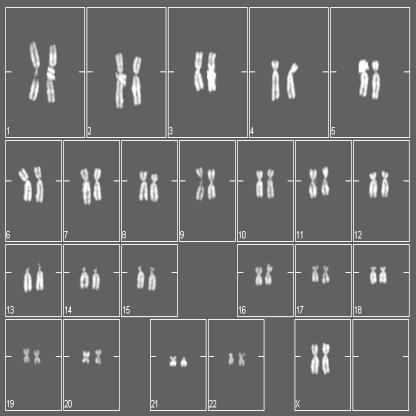1: (28, 40, 40, 104), (45, 40, 57, 104)
10: (255, 166, 264, 202), (266, 164, 274, 200)
11: (309, 163, 318, 201), (321, 164, 330, 202)
12: (368, 166, 380, 202), (380, 166, 390, 201)
13: (22, 264, 34, 297), (34, 264, 46, 297)
14: (90, 264, 102, 294), (78, 263, 90, 292)
15: (146, 263, 158, 291), (134, 262, 145, 290)
16: (264, 258, 274, 294), (254, 258, 263, 294)
17: (320, 261, 330, 289), (310, 261, 319, 289)
18: (369, 261, 378, 289), (378, 261, 387, 289)
19: (18, 340, 32, 368), (31, 340, 45, 368)
2: (115, 46, 128, 114), (130, 45, 143, 113)
20: (80, 345, 92, 370), (92, 344, 104, 369)
21: (179, 344, 190, 378), (168, 344, 178, 378)
22: (225, 348, 236, 370), (236, 348, 247, 370)
3: (191, 46, 205, 97), (205, 46, 219, 97)
4: (268, 56, 283, 107), (284, 56, 298, 107)
5: (356, 56, 370, 102), (370, 57, 382, 104)
6: (16, 163, 34, 206), (32, 163, 50, 206)
7: (92, 165, 106, 208), (79, 164, 93, 206)
8: (136, 166, 148, 204), (148, 166, 160, 204)
9: (195, 162, 205, 206), (208, 162, 218, 206)
X: (310, 340, 320, 376), (321, 340, 330, 376)
